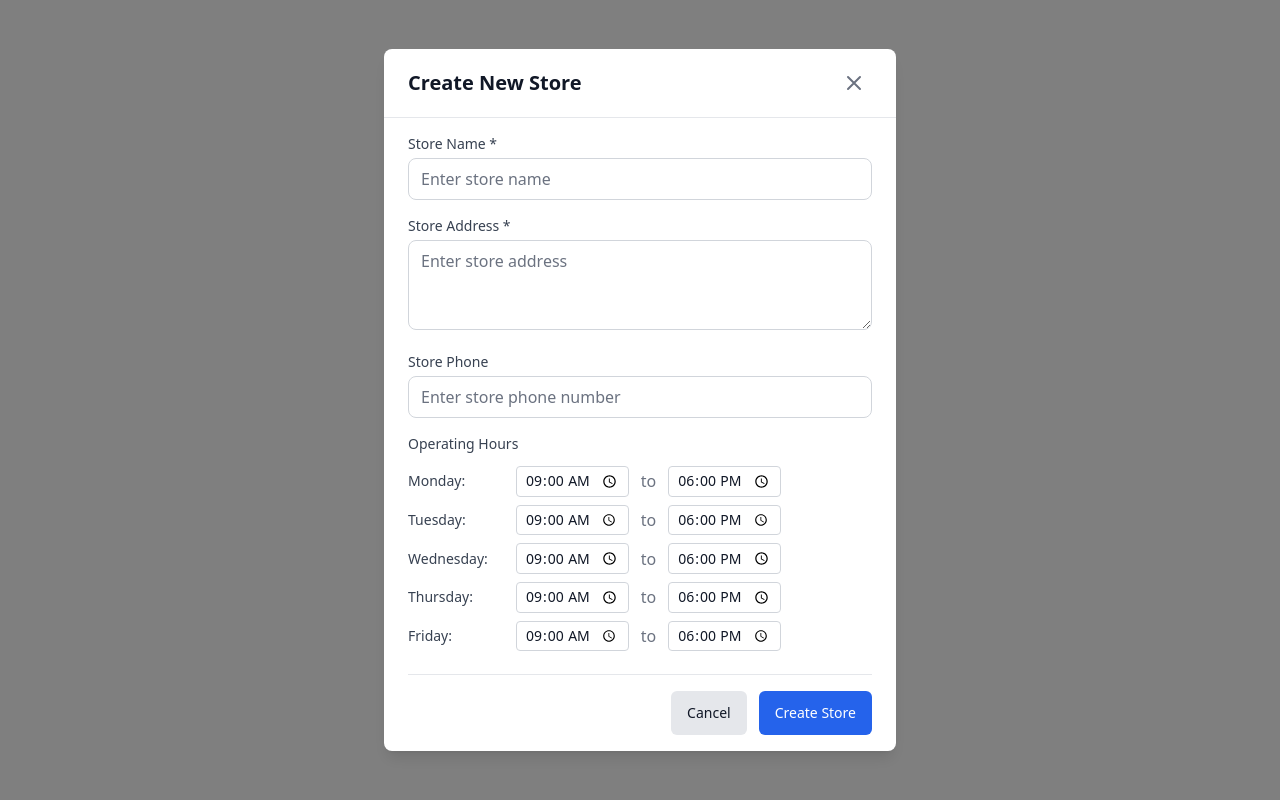
Scenario: StoreModal Component (Task 52) › Form Validation (Requirement 10.2) › should show error for invalid phone number format
Type "Test Store" into the field with placeholder "Enter store name" at {"x": 640, "y": 179}, box [408, 158, 872, 200]
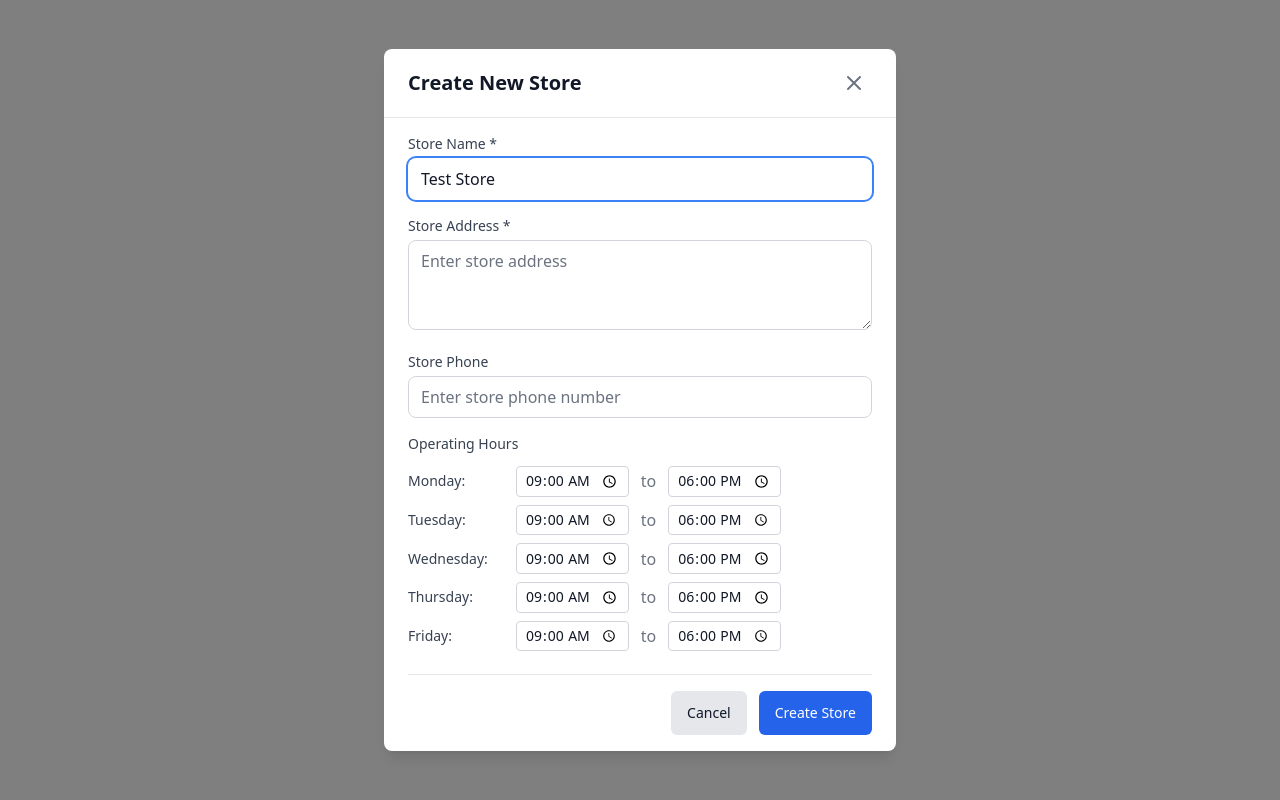
Type "123 Main Street" into the text box with placeholder "Enter store address" at {"x": 640, "y": 285}, box [408, 240, 872, 330]
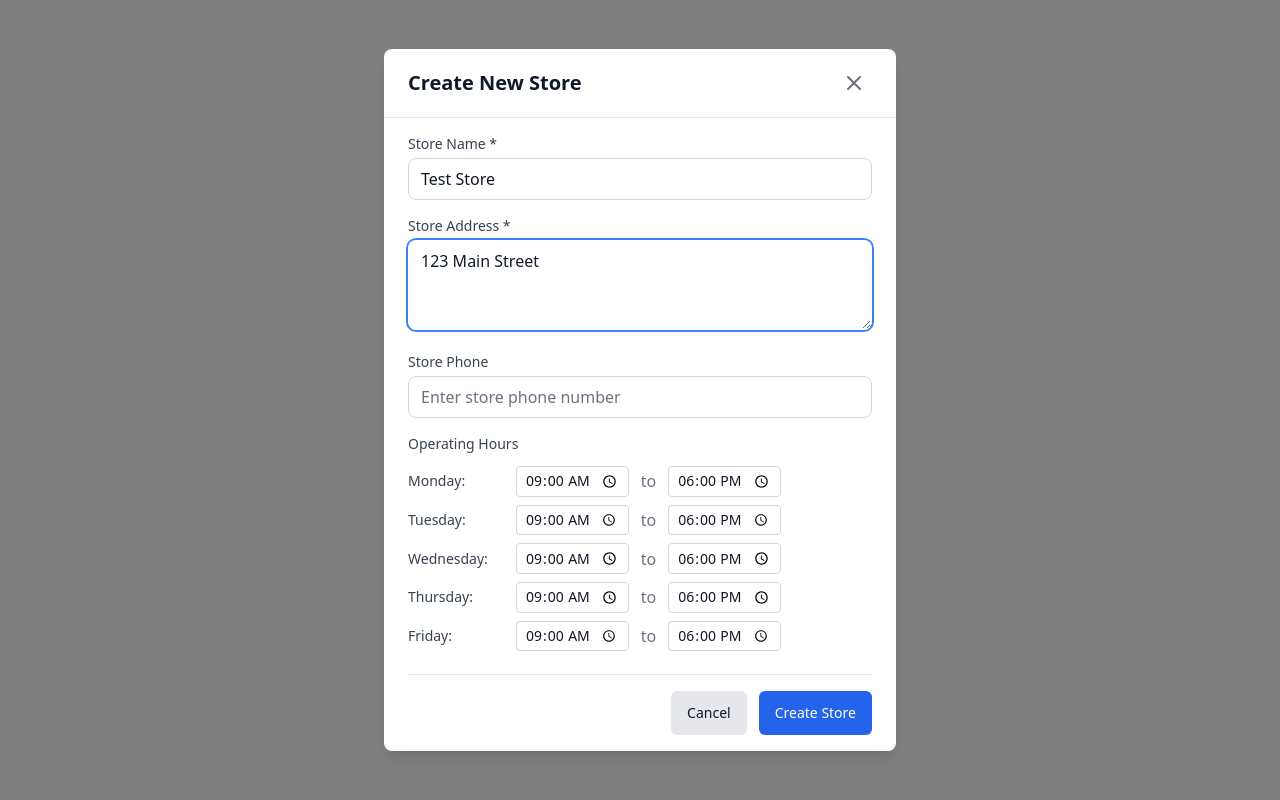
Type "invalid" into the field with placeholder "Enter store phone number" at {"x": 640, "y": 397}, box [408, 376, 872, 418]
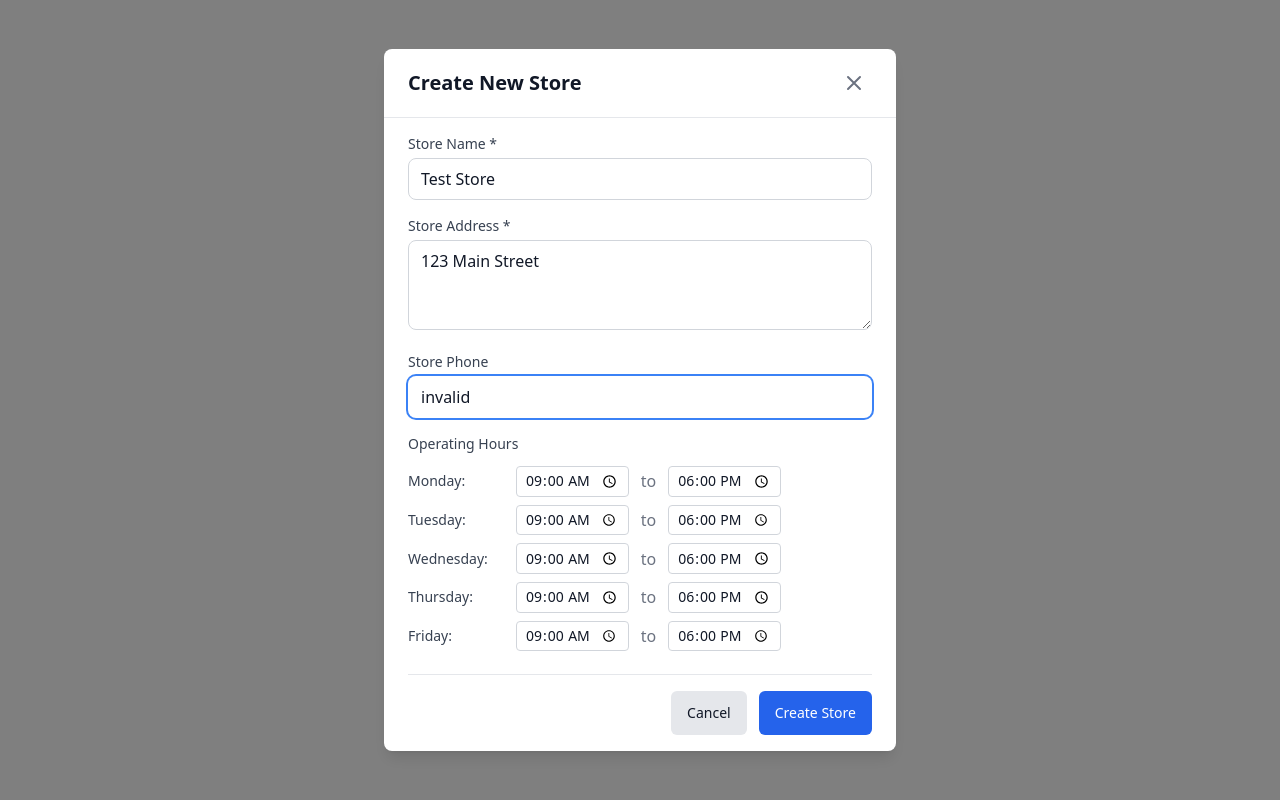
Click the button "Create Store" at {"x": 815, "y": 713}, box [759, 691, 872, 735]
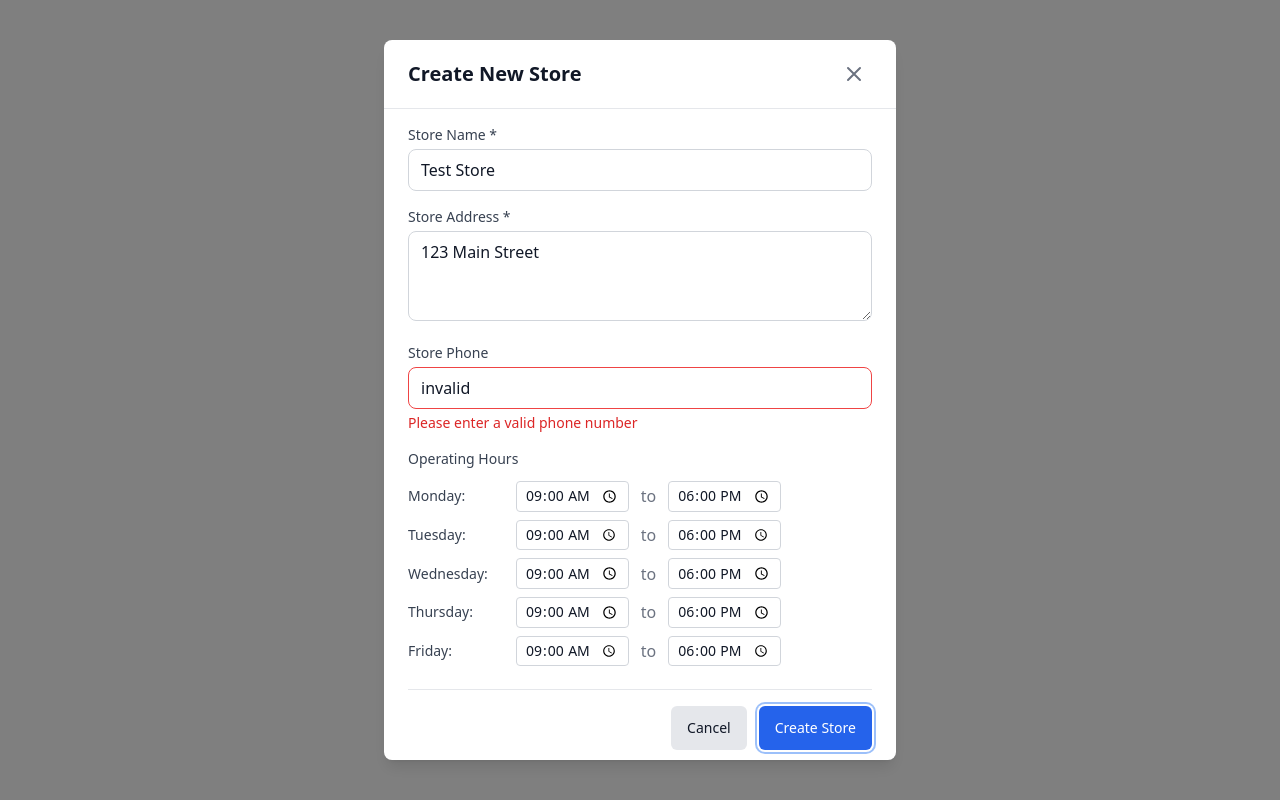
Check: the text "Please enter a valid phone number" is shown, box [408, 413, 638, 432]
